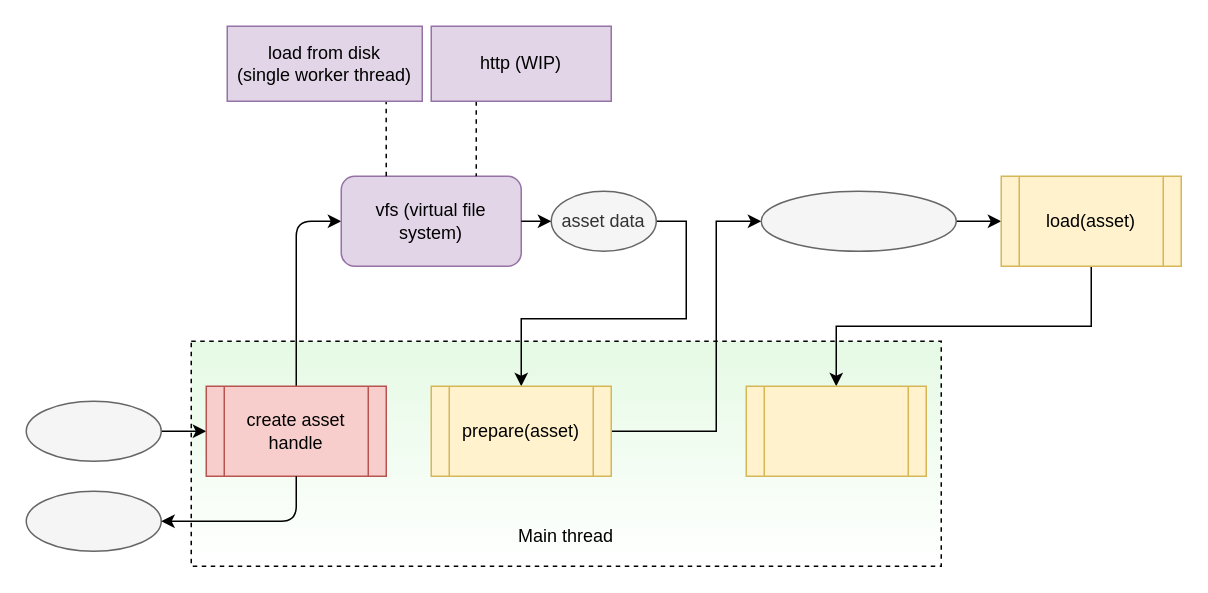
This 1208x593 diagram has some shape labels left out. The centre of each missing label's shape, as x and y in pixels:
"finalize(asset)" belongs at (x=835, y=430).
"handle" belongs at (x=93, y=520).
"load(file)" belongs at (x=93, y=430).
"rizz_asset_load_data" belongs at (x=858, y=220).
